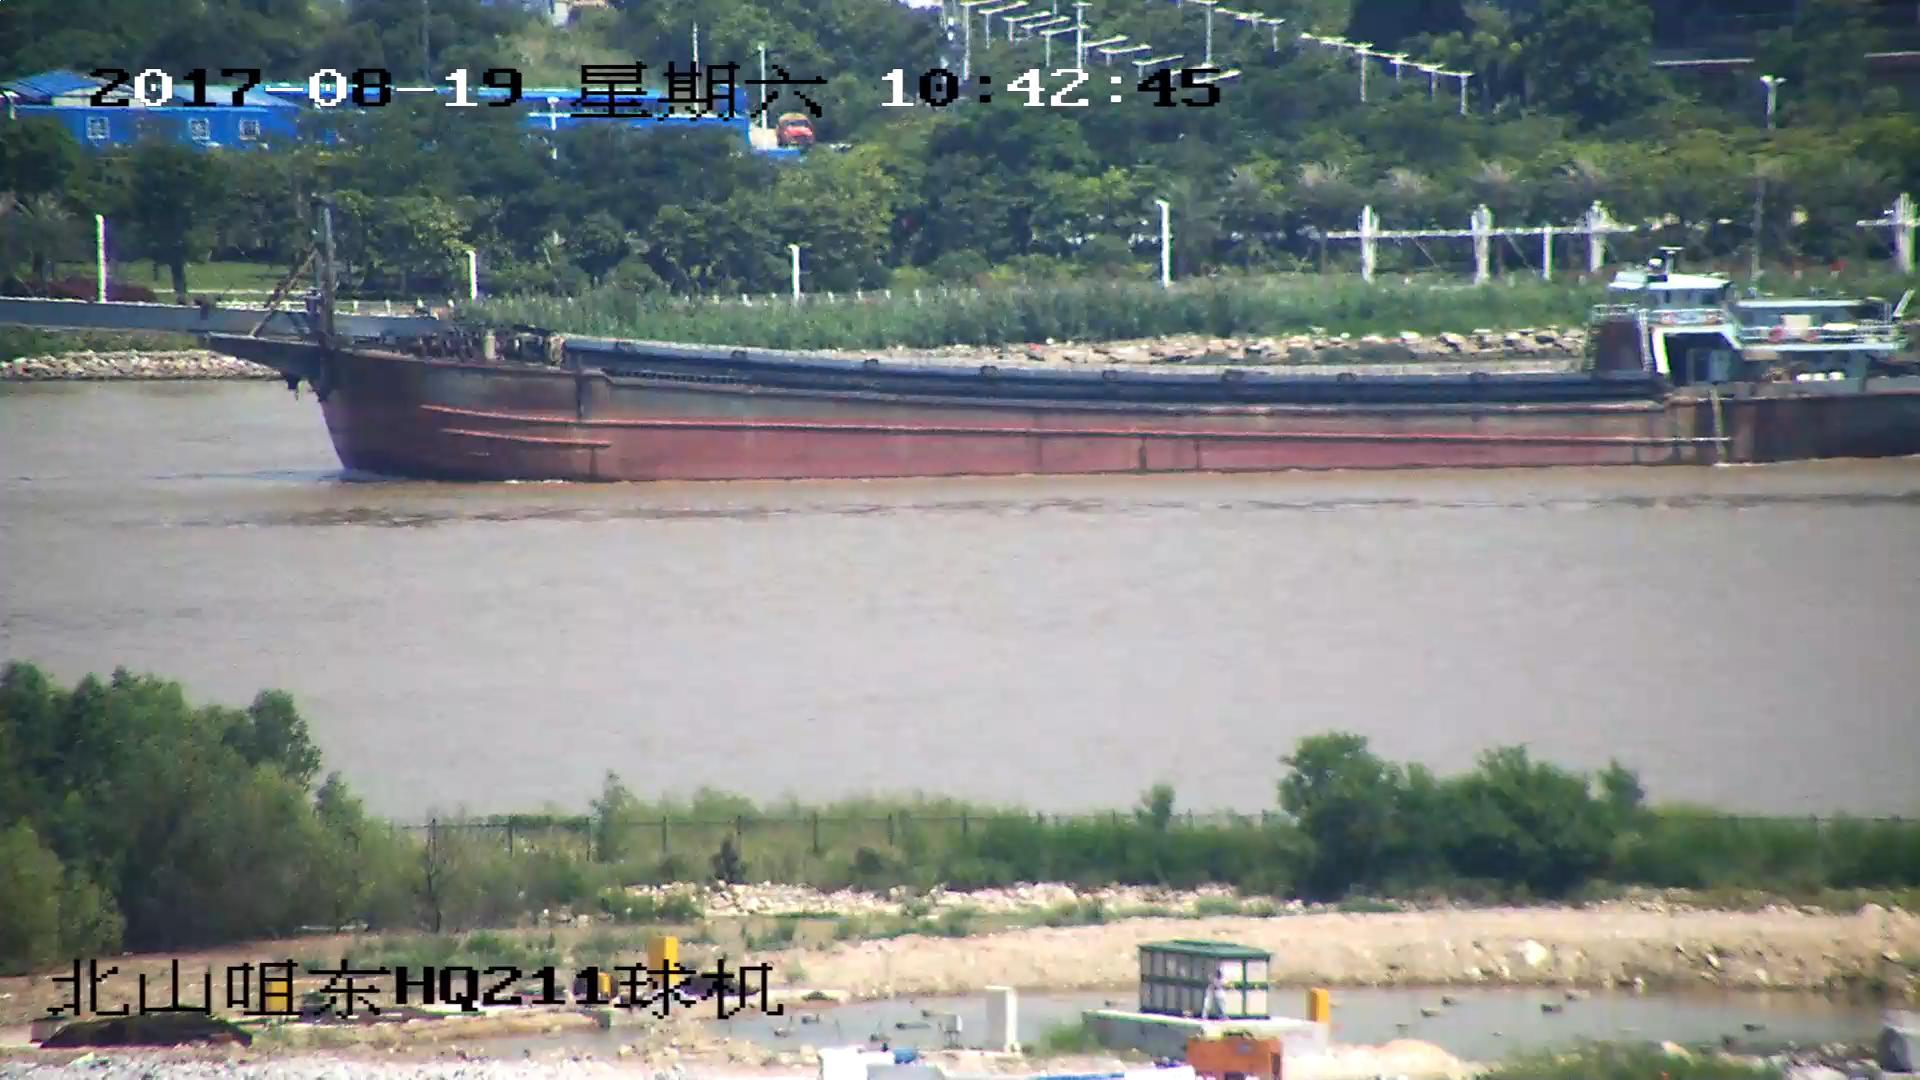Ship: (3, 196, 1920, 487)
